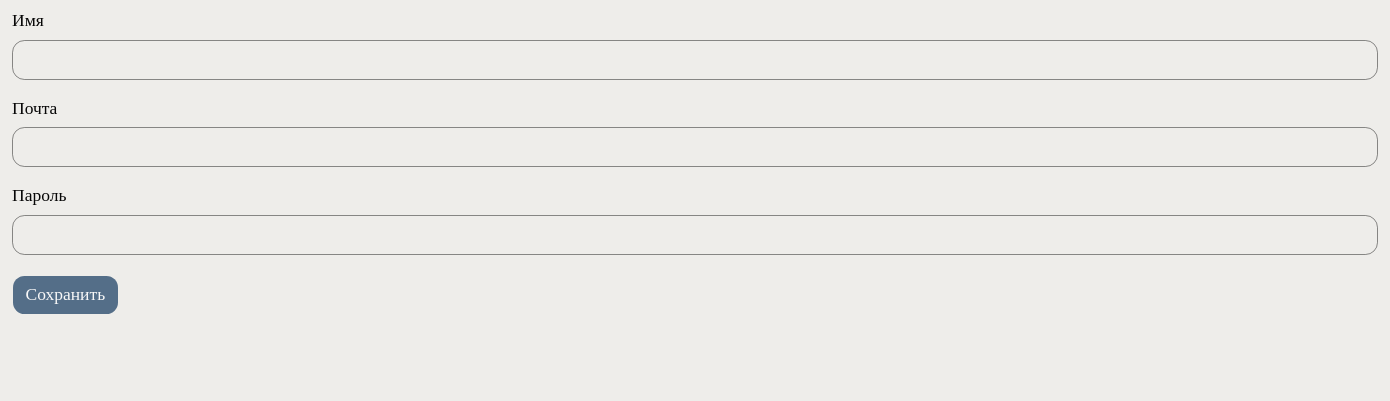
Test: useFormAction › успех: набранное остаётся (это сохранённые значения), сообщение объявляется как status
The image size is (1390, 401).
Type "Анна" into the field labelled "Имя" at {"x": 695, "y": 60}, box 12,40 -> 1378,80
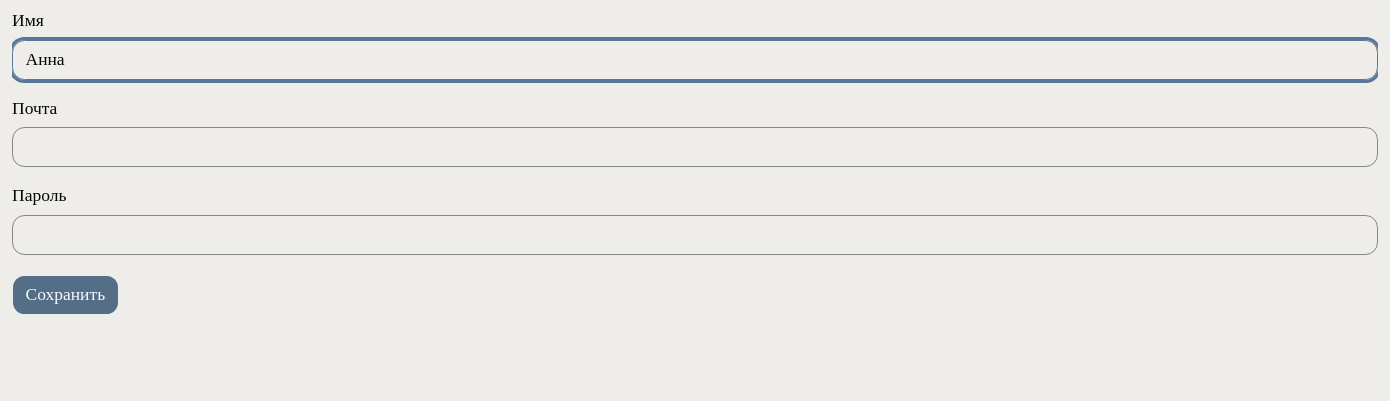
Click the button "Сохранить" at {"x": 65, "y": 294}, box 12,274 -> 119,314
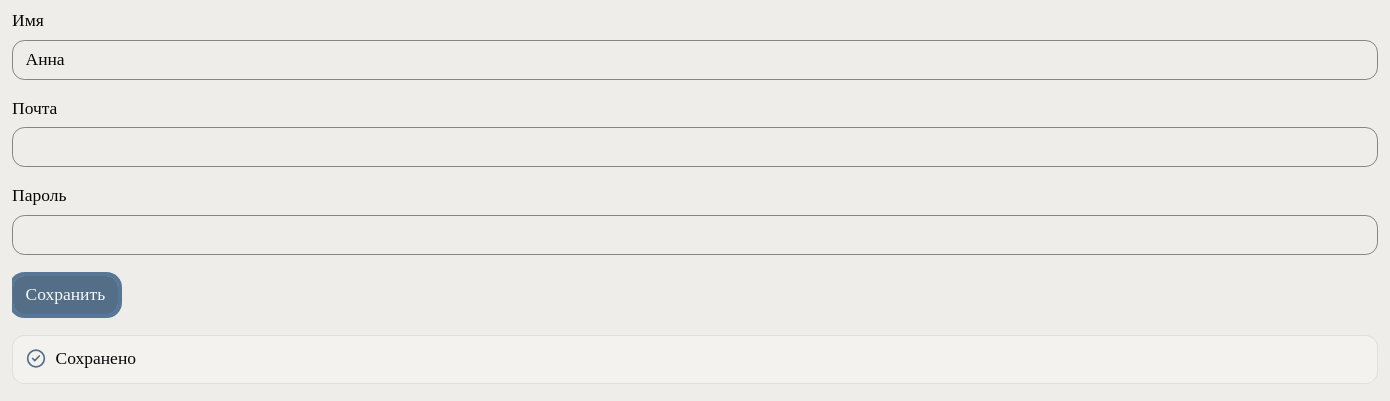
Expected: the text "Сохранено" is shown, 56,348 -> 136,368
